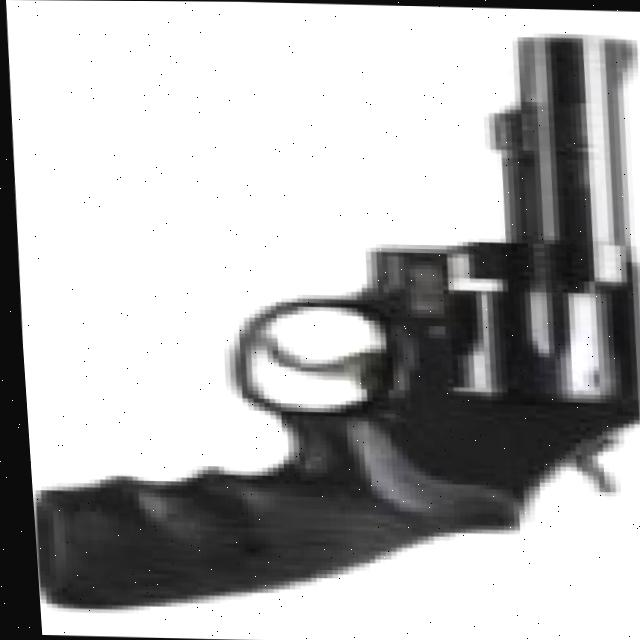pistol: (1, 20, 640, 626)
